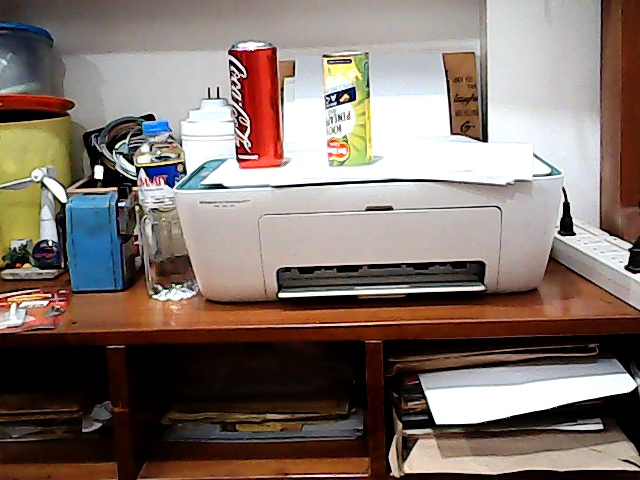Cola: (222, 35, 298, 178)
Pine Juice: (314, 47, 377, 172)
Summit Water: (130, 119, 184, 308)
